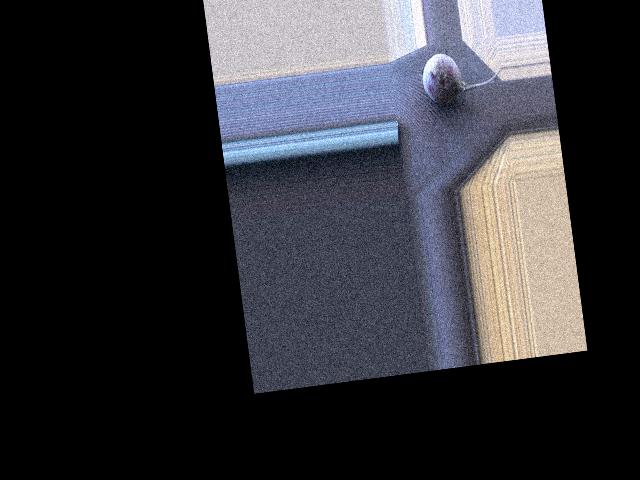beet: (419, 46, 504, 107)
